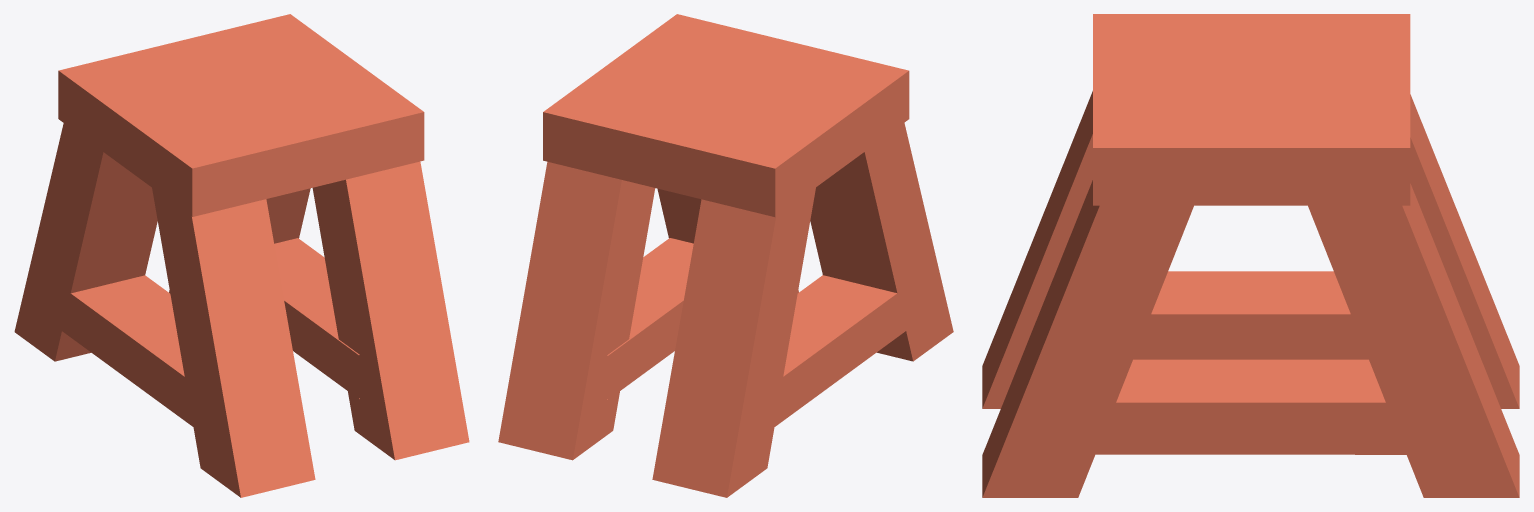
Rendered from stool_2.FBX.
3 renders of one model, left to right at view 1: azimuth 30°, elevation 25°; view 2: azimuth 150°, elevation 25°; view 3: azimuth 270°, elevation 25°, orthographic. The views are drawn at different scales.
Visible parts, largest first — view 1: stool_2; view 2: stool_2; view 3: stool_2.
Boxes of the visible parts, x1,y1,x2,y2 form: stool_2: [14, 14, 469, 497]; stool_2: [498, 14, 953, 497]; stool_2: [982, 14, 1519, 497].
Size of the model in its own units: 0.4954 by 0.6038 by 0.8385.
Materials: 1 (1 with a texture image).
